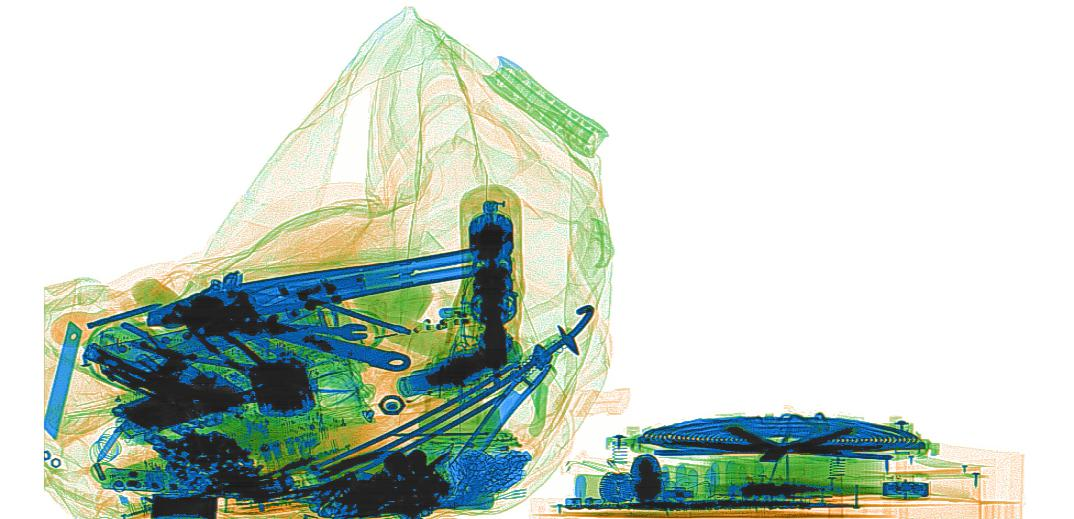battery: (394, 335, 525, 396)
knife: (43, 318, 83, 438)
